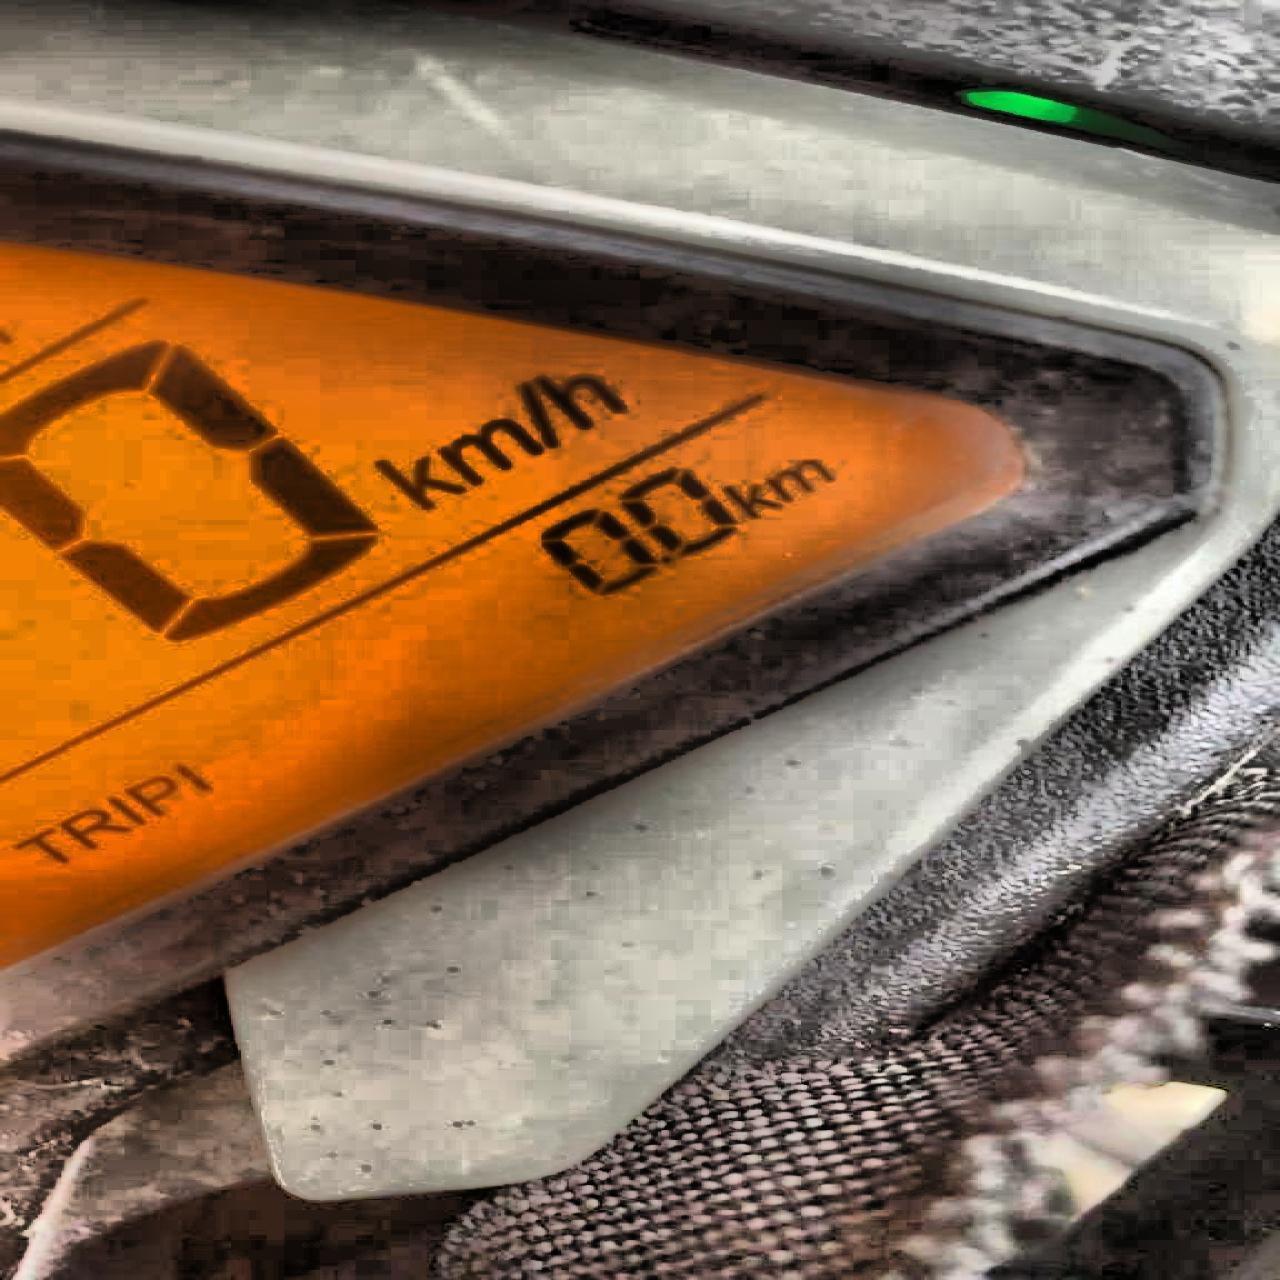-: (649, 552, 680, 567)
0: (0, 338, 376, 638), (618, 467, 735, 551), (533, 509, 651, 593)
1: (173, 763, 209, 792)
X: (437, 416, 533, 485), (531, 372, 625, 428), (373, 455, 459, 508), (513, 381, 556, 447), (764, 458, 826, 502), (60, 809, 127, 849), (123, 774, 173, 815), (720, 482, 771, 517), (14, 828, 62, 863), (107, 795, 142, 826)
odometer: (0, 218, 1114, 993)
